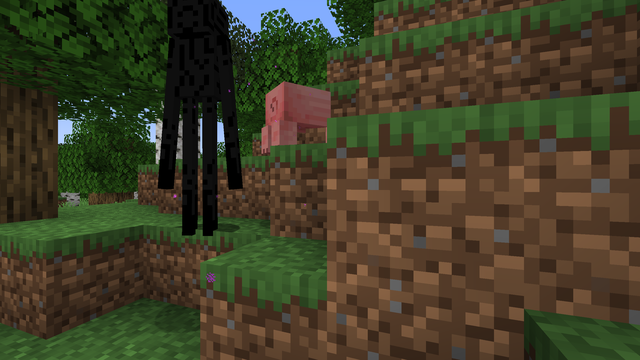cochons: (262, 77, 334, 151)
endermens: (160, 2, 235, 236)
